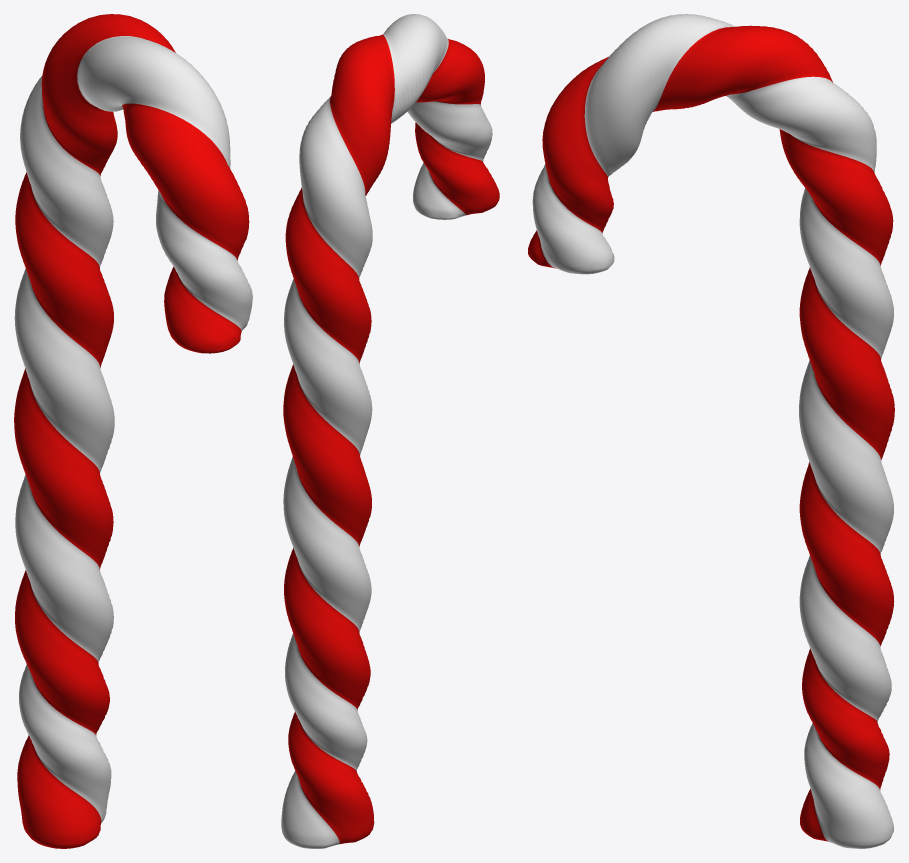
The model's file is CandyCaneVMax.glb.
3 renders of one model, left to right at view 1: azimuth 30°, elevation 25°; view 2: azimuth 150°, elevation 25°; view 3: azimuth 270°, elevation 25°, orthographic. The views are drawn at different scales.
Parts seen in each view (by area): view 1: Cylinder.003; view 2: Cylinder.003; view 3: Cylinder.003.
Boxes of the visible parts, box(x1,y1,x2,y2) form: Cylinder.003: box(14, 14, 252, 848); Cylinder.003: box(281, 14, 499, 848); Cylinder.003: box(528, 14, 894, 848).
Size of the model in its own units: 7.83 by 73.64 by 30.
